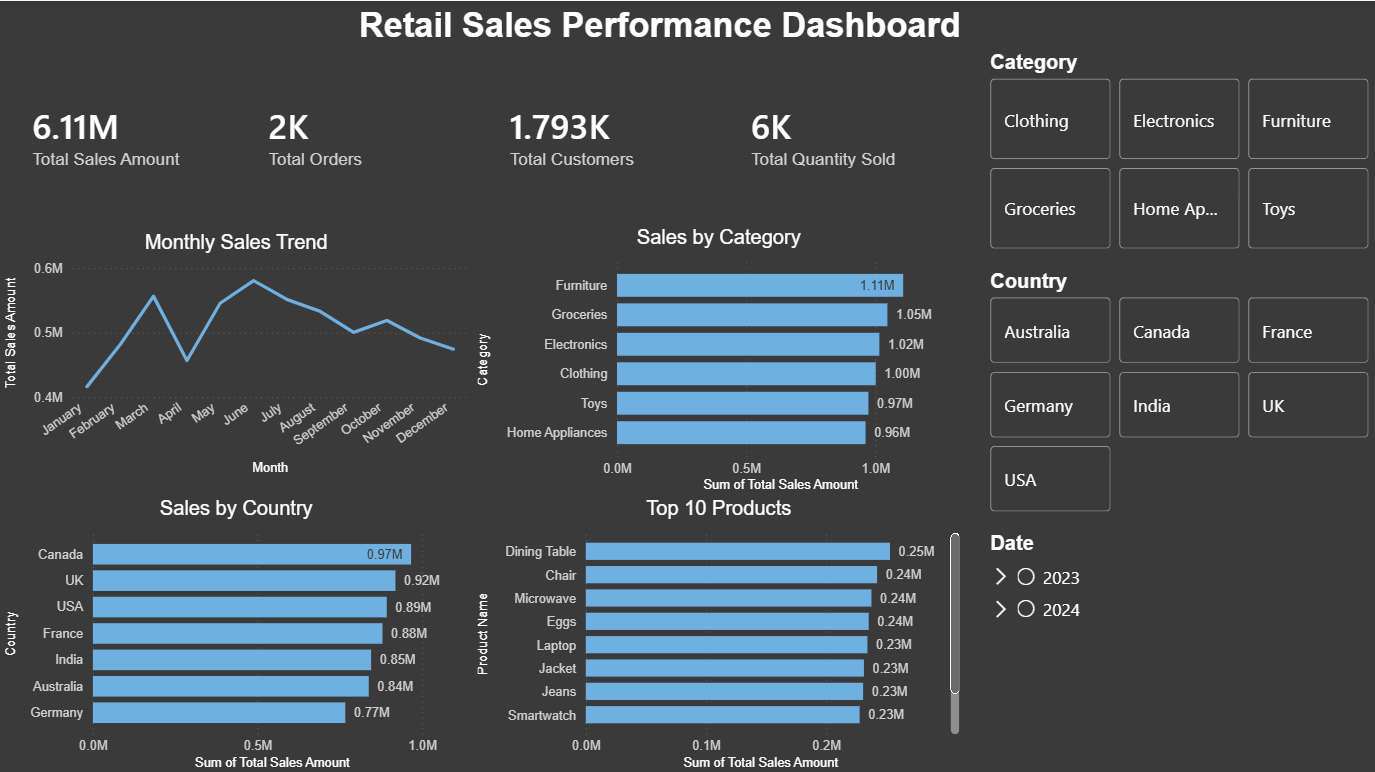

The dashboard page shown, as its layout file describes it:
{"tool":"powerbi","page":{"name":"Page 1","canvas":[1280,720],"ordinal":0},"visuals":[{"type":"cardVisual","fields":{"Data":["Sum(Retail_sales_data.Total Sales Amount)"]},"box":[0,46.5,219.8,155.8],"z":0},{"type":"cardVisual","fields":{"Data":["CountNonNull(Retail_sales_data.Order ID)"]},"box":[219.8,46.5,223.3,155.8],"z":1000},{"type":"cardVisual","fields":{"Data":["Count(Retail_sales_data.Customer ID)"]},"box":[444.2,46.5,224.4,155.8],"z":2000},{"type":"lineChart","title":"Monthly Sales Trend","fields":{"Category":["Retail_sales_data.Date.Variation.Date Hierarchy.Month"],"Y":["Sum(Retail_sales_data.Total Sales Amount)"]},"box":[0,214,439.5,231.4],"z":3000},{"type":"clusteredBarChart","title":"Sales by Category","fields":{"Category":["Retail_sales_data.Category"],"Y":["Sum(Retail_sales_data.Total Sales Amount)"]},"box":[439.5,209.3,458.1,252.3],"z":4000},{"type":"clusteredBarChart","title":"Sales by Country","fields":{"Category":["Retail_sales_data.Country"],"Y":["Sum(Retail_sales_data.Total Sales Amount)"]},"box":[0,461.6,439.5,258.1],"z":5000},{"type":"advancedSlicerVisual","fields":{"Values":["Retail_sales_data.Category"]},"box":[916.3,46.5,364,314],"z":6000},{"type":"advancedSlicerVisual","fields":{"Values":["Retail_sales_data.Country"]},"box":[916.3,386,364,333.7],"z":7000},{"type":"cardVisual","fields":{"Data":["Sum(Retail_sales_data.Quantity Sold)"]},"box":[668.6,46.5,229.1,155.8],"z":8000},{"type":"textbox","box":[261.6,0,704.7,46.5],"z":9000},{"type":"clusteredBarChart","title":"Top 10 Products","fields":{"Category":["Retail_sales_data.Product Name"],"Y":["Sum(Retail_sales_data.Total Sales Amount)"]},"box":[439.5,461.6,458.1,258.1],"z":10000}]}

Visuals, with their boxes in screenshot pixels (x1, y1, x2, y2), scaled from the page's 1280x720 canvas onto the 1375x772 screenshot:
cardVisual - Sum(Retail_sales_data.Total Sales Amount): [0,50,236,217]
cardVisual - CountNonNull(Retail_sales_data.Order ID): [236,50,476,217]
cardVisual - Count(Retail_sales_data.Customer ID): [477,50,718,217]
"Monthly Sales Trend" lineChart: [0,229,472,478]
"Sales by Category" clusteredBarChart: [472,224,964,495]
"Sales by Country" clusteredBarChart: [0,495,472,771]
advancedSlicerVisual - Retail_sales_data.Category: [984,50,1374,387]
advancedSlicerVisual - Retail_sales_data.Country: [984,414,1374,771]
cardVisual - Sum(Retail_sales_data.Quantity Sold): [718,50,964,217]
textbox: [281,0,1038,50]
"Top 10 Products" clusteredBarChart: [472,495,964,771]
